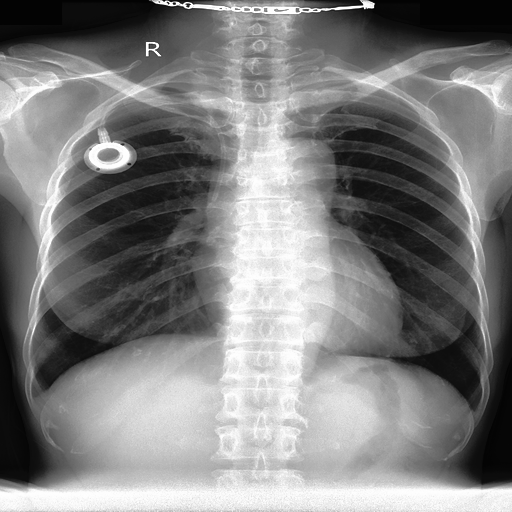Calcification: (153, 76, 231, 109), (24, 381, 53, 404)
Consolidation: (284, 136, 336, 179)
Other lesion: (293, 67, 364, 98), (163, 70, 226, 100)
Pleural effusion: (24, 381, 53, 404)
Pleural thickening: (293, 67, 364, 98), (163, 70, 226, 100)
